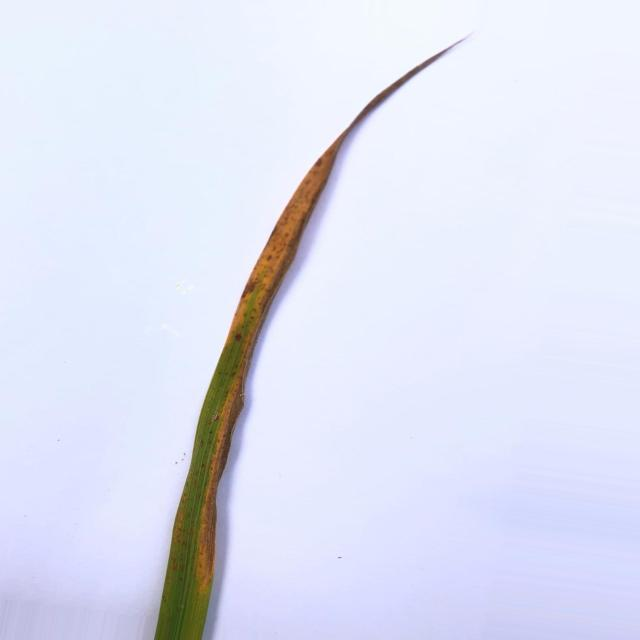Rice Tungro: (199, 127, 350, 599)
